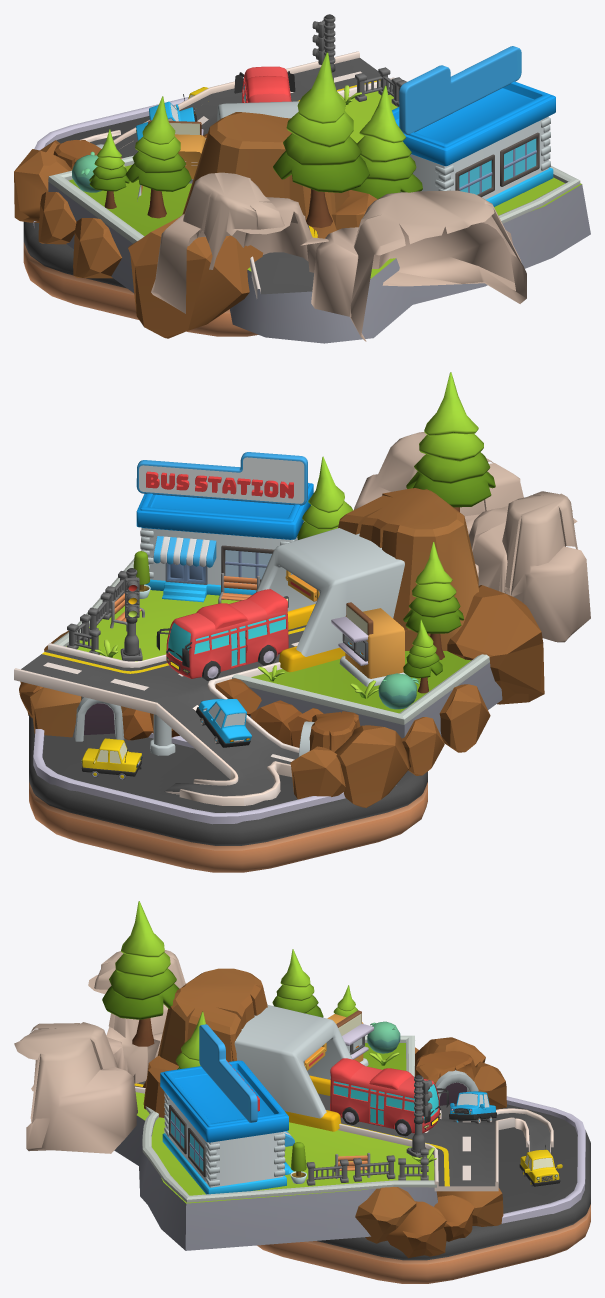
The model's file is island_TransitAdventure.fbx.
3 renders of one model, top to bottom at view 1: azimuth 30°, elevation 25°; view 2: azimuth 150°, elevation 25°; view 3: azimuth 270°, elevation 25°, orthographic. The views are drawn at different scales.
Parts seen in each view (by area): view 1: Base_Island, Building_6, Building_2, Building_1, Building_4, Building_3; view 2: Base_Island, Building_6, Building_1, Building_4, Building_2, Building_3, Building_5; view 3: Base_Island, Building_6, Building_1, Building_2, Building_3, Building_4, Building_5.
Part boxes in pixels (x1=…): Base_Island: x1=14, y1=51, x2=590, y2=343; Building_6: x1=392, y1=46, x2=555, y2=206; Building_2: x1=312, y1=14, x2=406, y2=106; Building_1: x1=234, y1=66, x2=295, y2=102; Building_4: x1=137, y1=120, x2=205, y2=201; Building_3: x1=136, y1=101, x2=197, y2=140; Base_Island: x1=14, y1=372, x2=590, y2=872; Building_6: x1=133, y1=452, x2=313, y2=603; Building_1: x1=156, y1=589, x2=288, y2=680; Building_4: x1=331, y1=602, x2=405, y2=686; Building_2: x1=67, y1=568, x2=144, y2=661; Building_3: x1=196, y1=698, x2=251, y2=747; Building_5: x1=81, y1=738, x2=142, y2=779; Base_Island: x1=14, y1=901, x2=590, y2=1283; Building_6: x1=160, y1=1024, x2=306, y2=1194; Building_1: x1=330, y1=1058, x2=448, y2=1136; Building_2: x1=306, y1=1075, x2=432, y2=1185; Building_3: x1=449, y1=1091, x2=496, y2=1123; Building_4: x1=327, y1=1010, x2=373, y2=1066; Building_5: x1=519, y1=1145, x2=562, y2=1186.
Bounding box in the file's own units: 2408 × 1713 × 3236.
